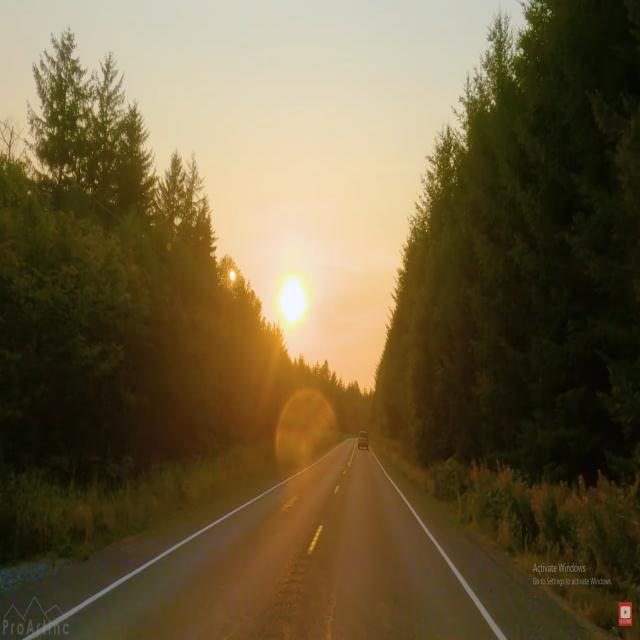sun: (274, 266, 310, 330)
